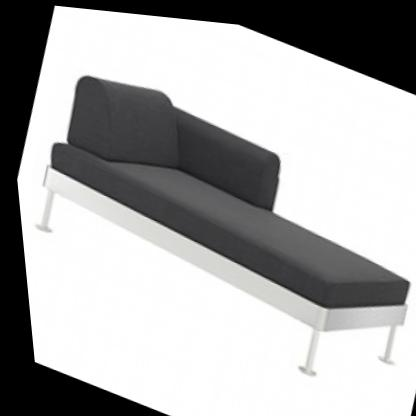Sofa: (2, 30, 416, 416)
